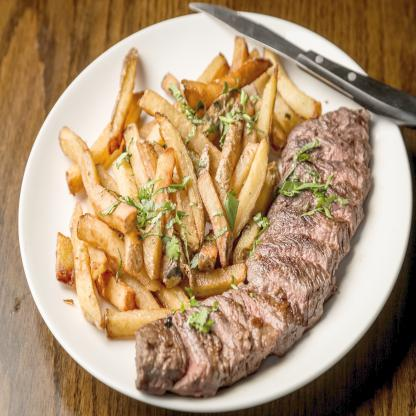Carne: (247, 254, 330, 317), (267, 212, 348, 263), (247, 238, 334, 283), (212, 297, 276, 356), (230, 286, 306, 334), (278, 184, 359, 228), (132, 324, 184, 387), (173, 323, 218, 394), (203, 309, 245, 382), (321, 118, 367, 161), (322, 159, 364, 183)
